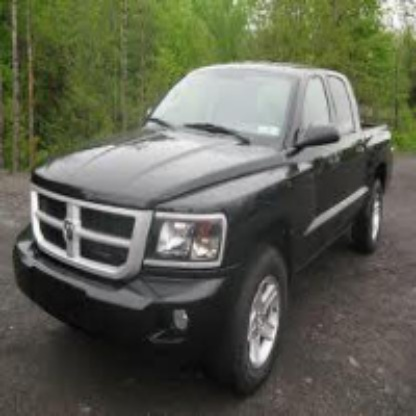Vehicle: (11, 56, 403, 401)
